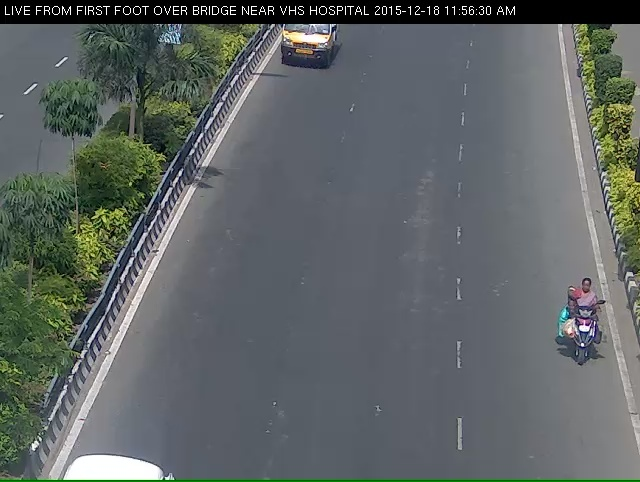Auto: (267, 20, 339, 77)
Person: (554, 282, 612, 382)
